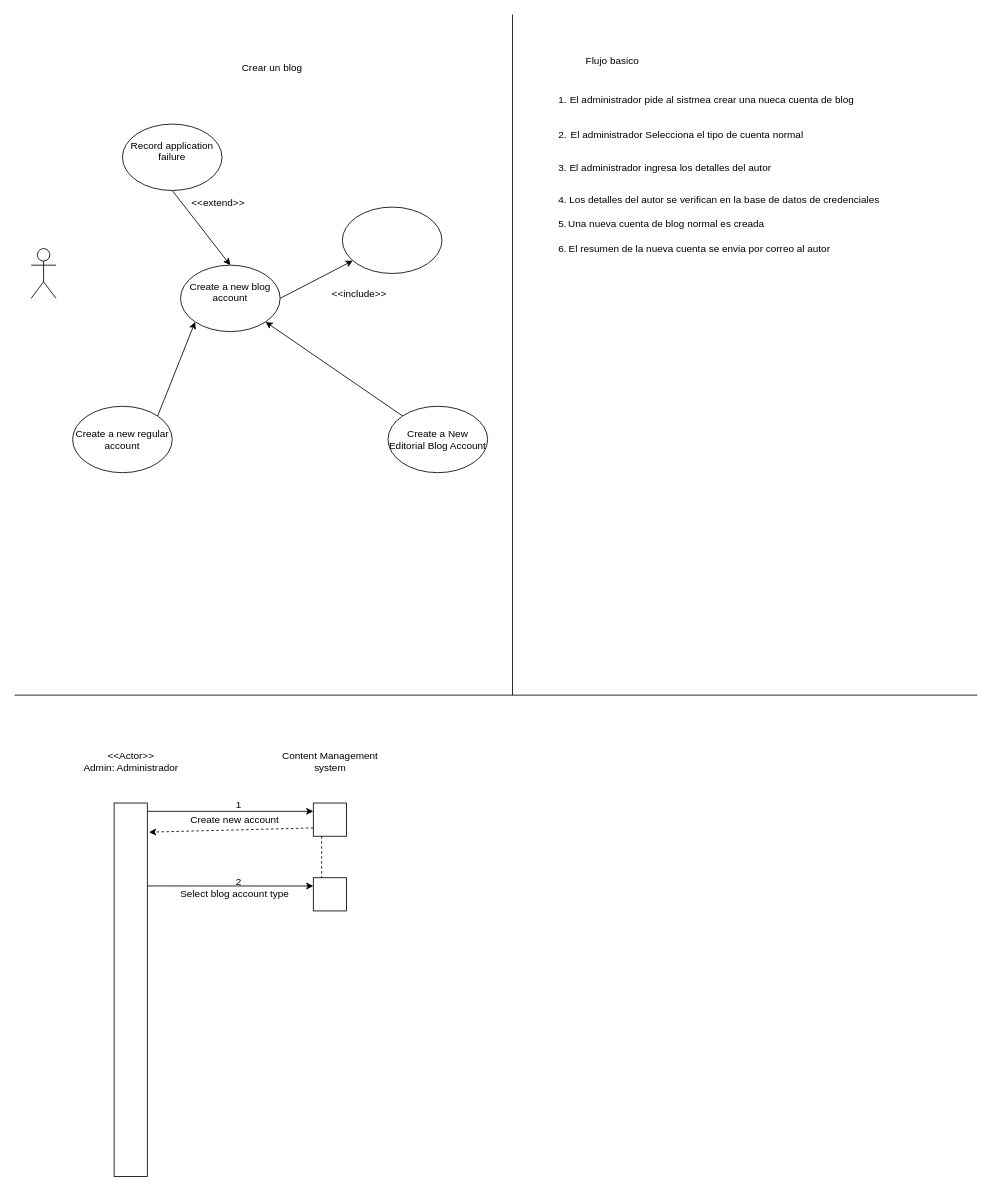
Some shapes in this 993 by 1191 pixel diagram are drawn without their labels. Here are the shapes that lost their labels. From the top down, the box of each, then its label:
(342, 206, 442, 273): Check identity
(30, 248, 56, 298): Actor
